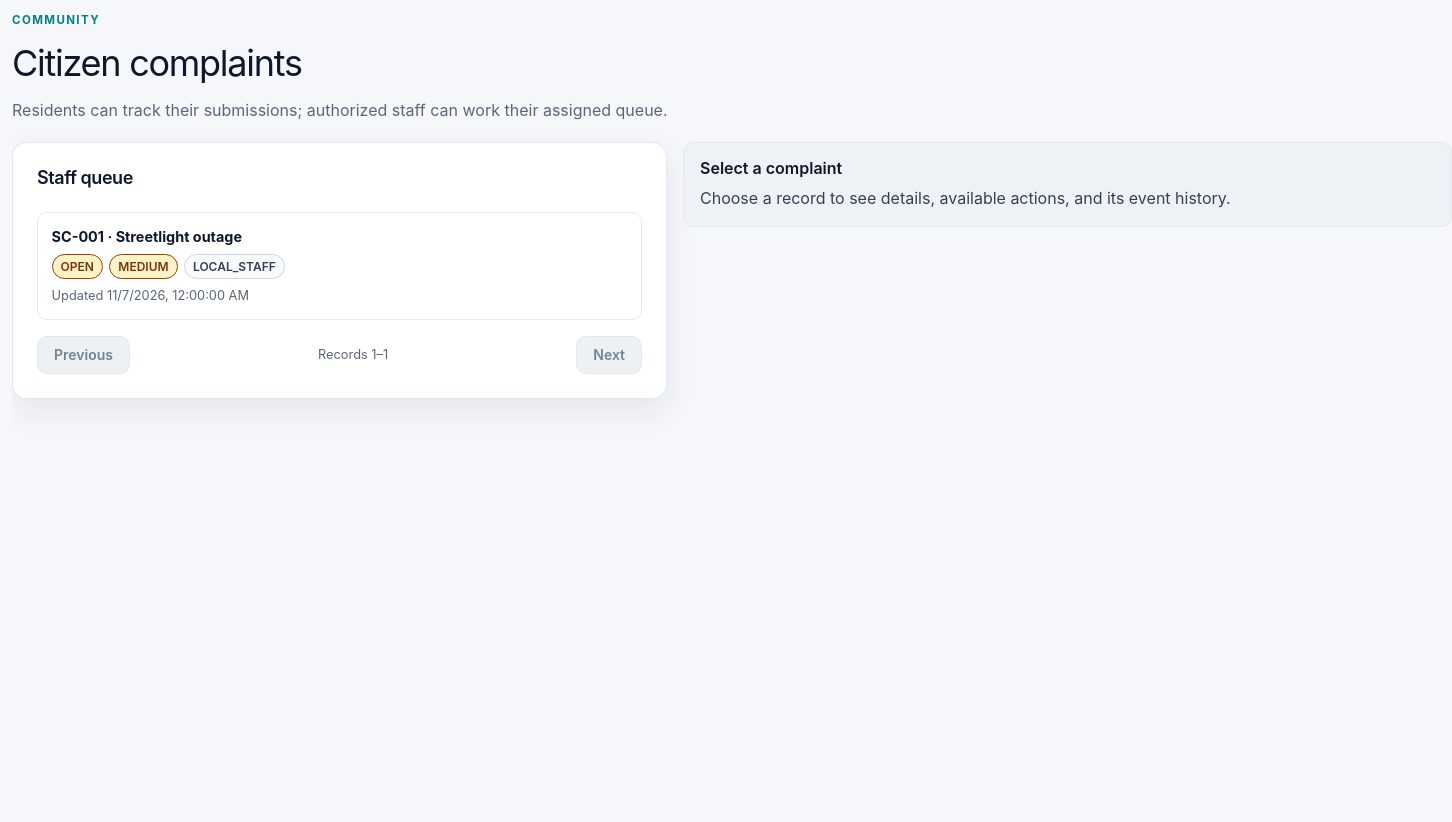
Test case: ComplaintsPage workflow actions › displays authorized zone, assignee, and handler labels without lookup requests
Click the button "SC-001": {"x": 78, "y": 236} [37,212,642,320]
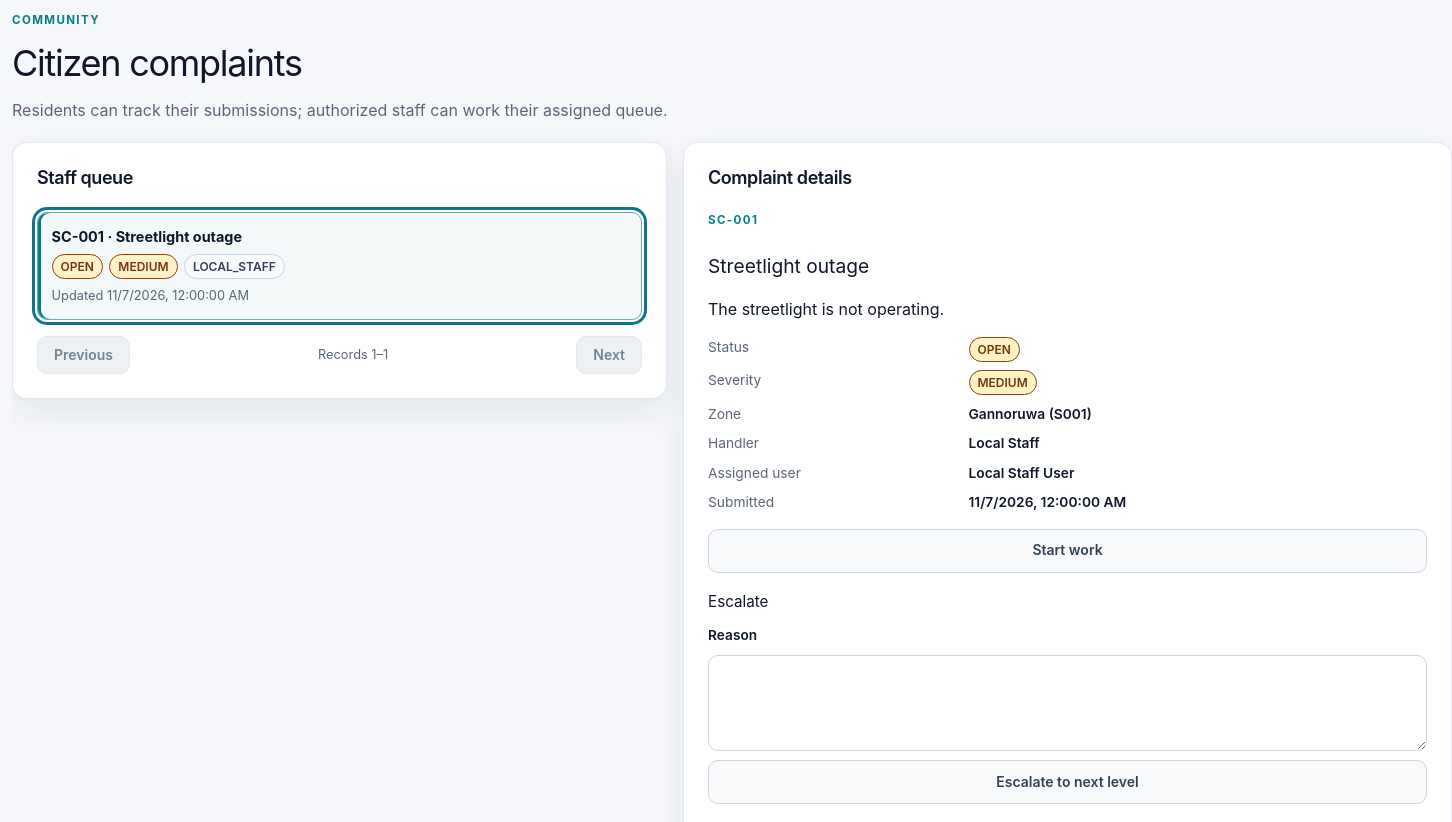
Check: the text "Gannoruwa (S001)" is shown, box [968,406,1092,422]
Check: the text "Local Staff User" is shown, box [968,465,1074,481]
Check: the text "Local Staff" is shown, box [968,435,1040,451]
